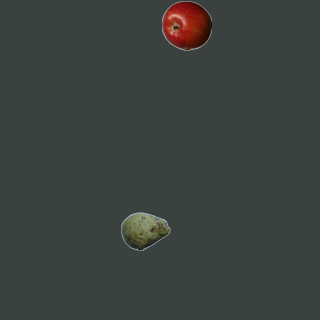Apple Braeburn: (161, 0, 211, 50)
Pear Stone: (120, 206, 170, 256)
